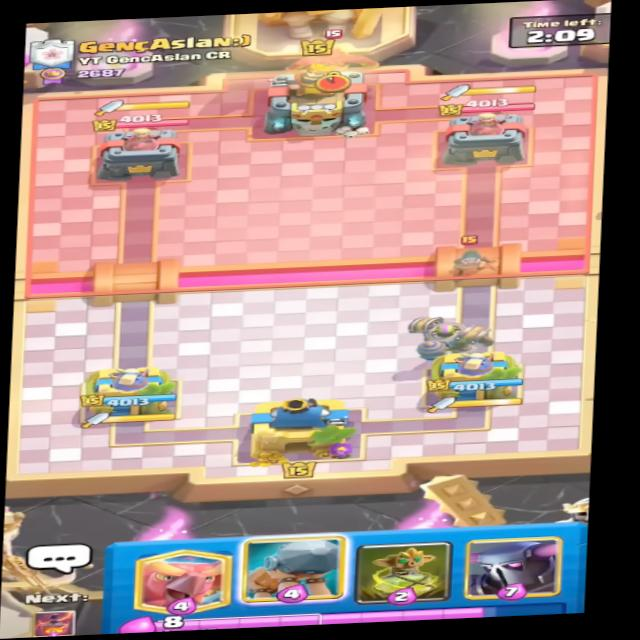bandit: (435, 232, 510, 276)
phoenix: (274, 26, 388, 80)
